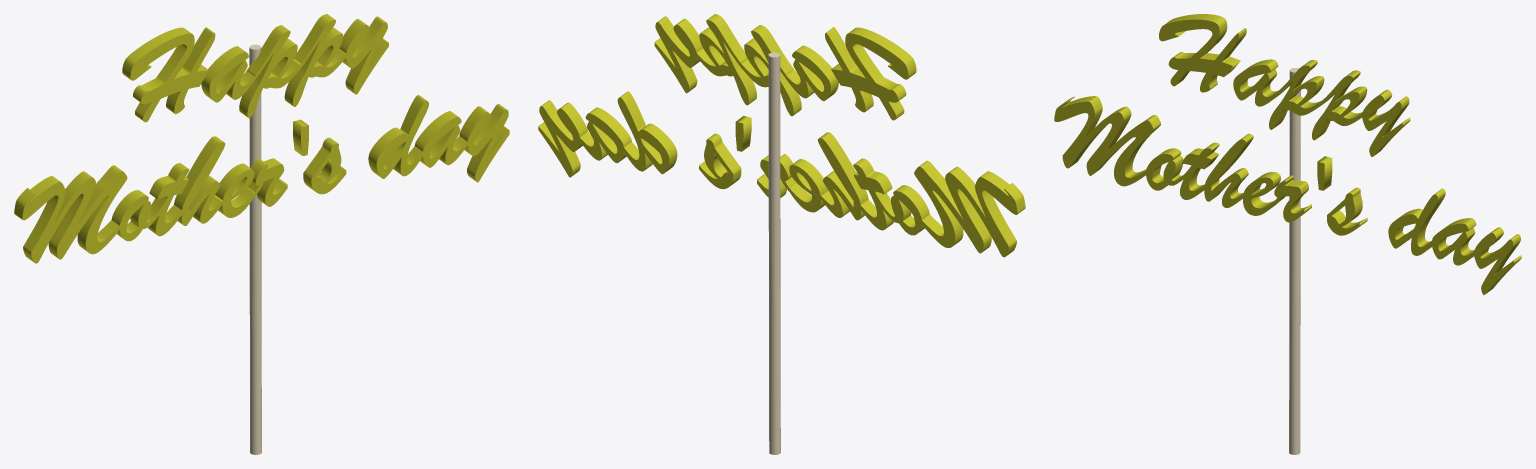
File: mother_stick1.glb
The picture shows the model from 3 angles, left to right: view 1: azimuth 30°, elevation 25°; view 2: azimuth 150°, elevation 25°; view 3: azimuth 330°, elevation 25°; orthographic projection. The views are drawn at different scales.
Visible parts, largest first — view 1: Text.002, Text.003, Cylinder.001; view 2: Text.002, Text.003, Cylinder.001; view 3: Text.002, Text.003, Cylinder.001.
Boxes of the visible parts, x1,y1,x2,y2 form: Text.002: [14, 95, 509, 263]; Text.003: [122, 14, 388, 122]; Cylinder.001: [249, 44, 261, 454]; Text.002: [538, 91, 1025, 257]; Text.003: [654, 14, 916, 120]; Cylinder.001: [768, 52, 780, 454]; Text.002: [1054, 96, 1521, 294]; Text.003: [1159, 14, 1410, 156]; Cylinder.001: [1289, 68, 1300, 454].
Bounding box in the file's own units: 1.38 × 1.2 × 0.0703.
